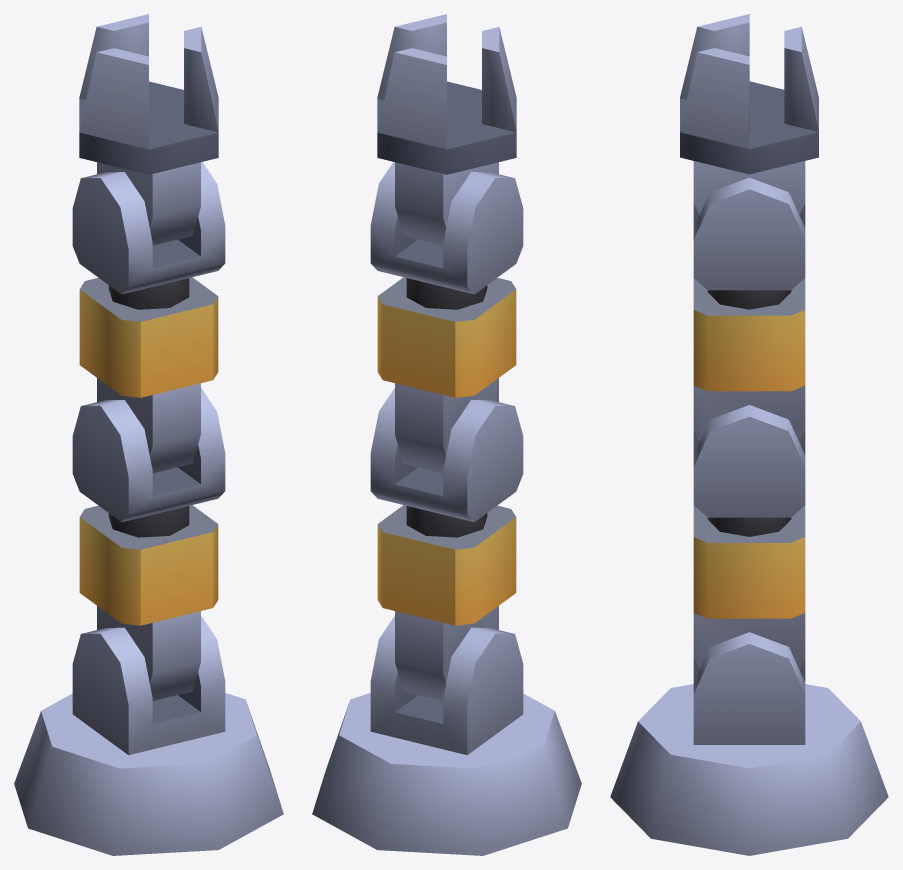
3 renders of one model, left to right at view 1: azimuth 30°, elevation 25°; view 2: azimuth 150°, elevation 25°; view 3: azimuth 270°, elevation 25°, orthographic.
Visible parts, largest first — view 1: robot_arm_b, element_f, element_b, element_d, element_a, element_e, element_c; view 2: robot_arm_b, element_f, element_b, element_d, element_a, element_e, element_c; view 3: robot_arm_b, element_f, element_b, element_d, element_a, element_e, element_c.
Part boxes in pixels (x1,y1,x2,y2): robot_arm_b: (14, 693, 283, 855); element_f: (79, 14, 218, 245); element_b: (79, 505, 218, 700); element_d: (79, 277, 218, 473); element_a: (72, 616, 225, 755); element_e: (72, 162, 225, 294); element_c: (72, 388, 225, 522); robot_arm_b: (312, 693, 581, 855); element_f: (377, 14, 516, 245); element_b: (377, 505, 516, 700); element_d: (377, 277, 516, 473); element_a: (370, 616, 523, 755); element_e: (370, 162, 523, 294); element_c: (370, 388, 523, 522); robot_arm_b: (610, 684, 888, 855); element_f: (680, 14, 818, 214); element_b: (693, 505, 805, 669); element_d: (693, 278, 805, 442); element_a: (693, 632, 805, 744); element_e: (693, 177, 805, 290); element_c: (693, 405, 805, 517).
Bounding box in the file's own units: 1 × 3 × 1.
1 material, 1 textured.
